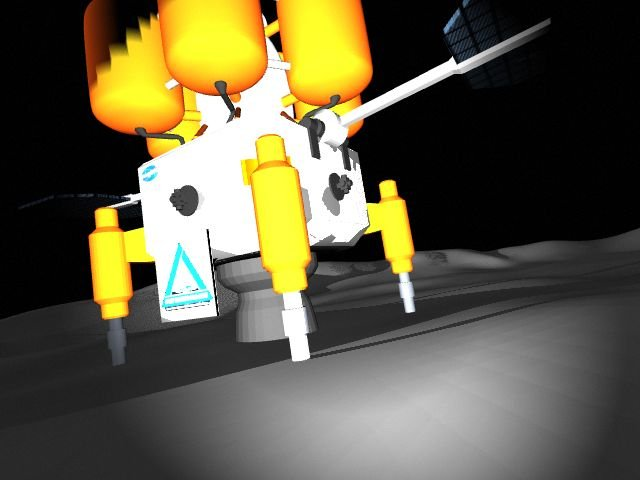basemarker: (159, 242, 213, 311)
